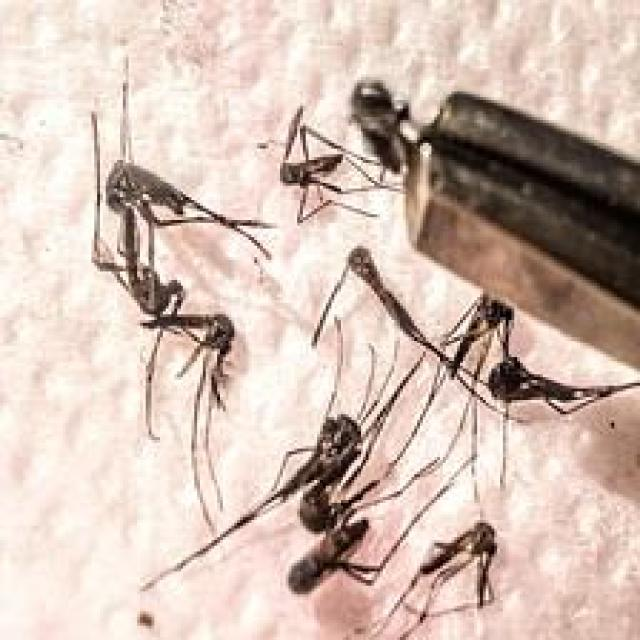Aedes albopictus: (89, 54, 277, 534)
